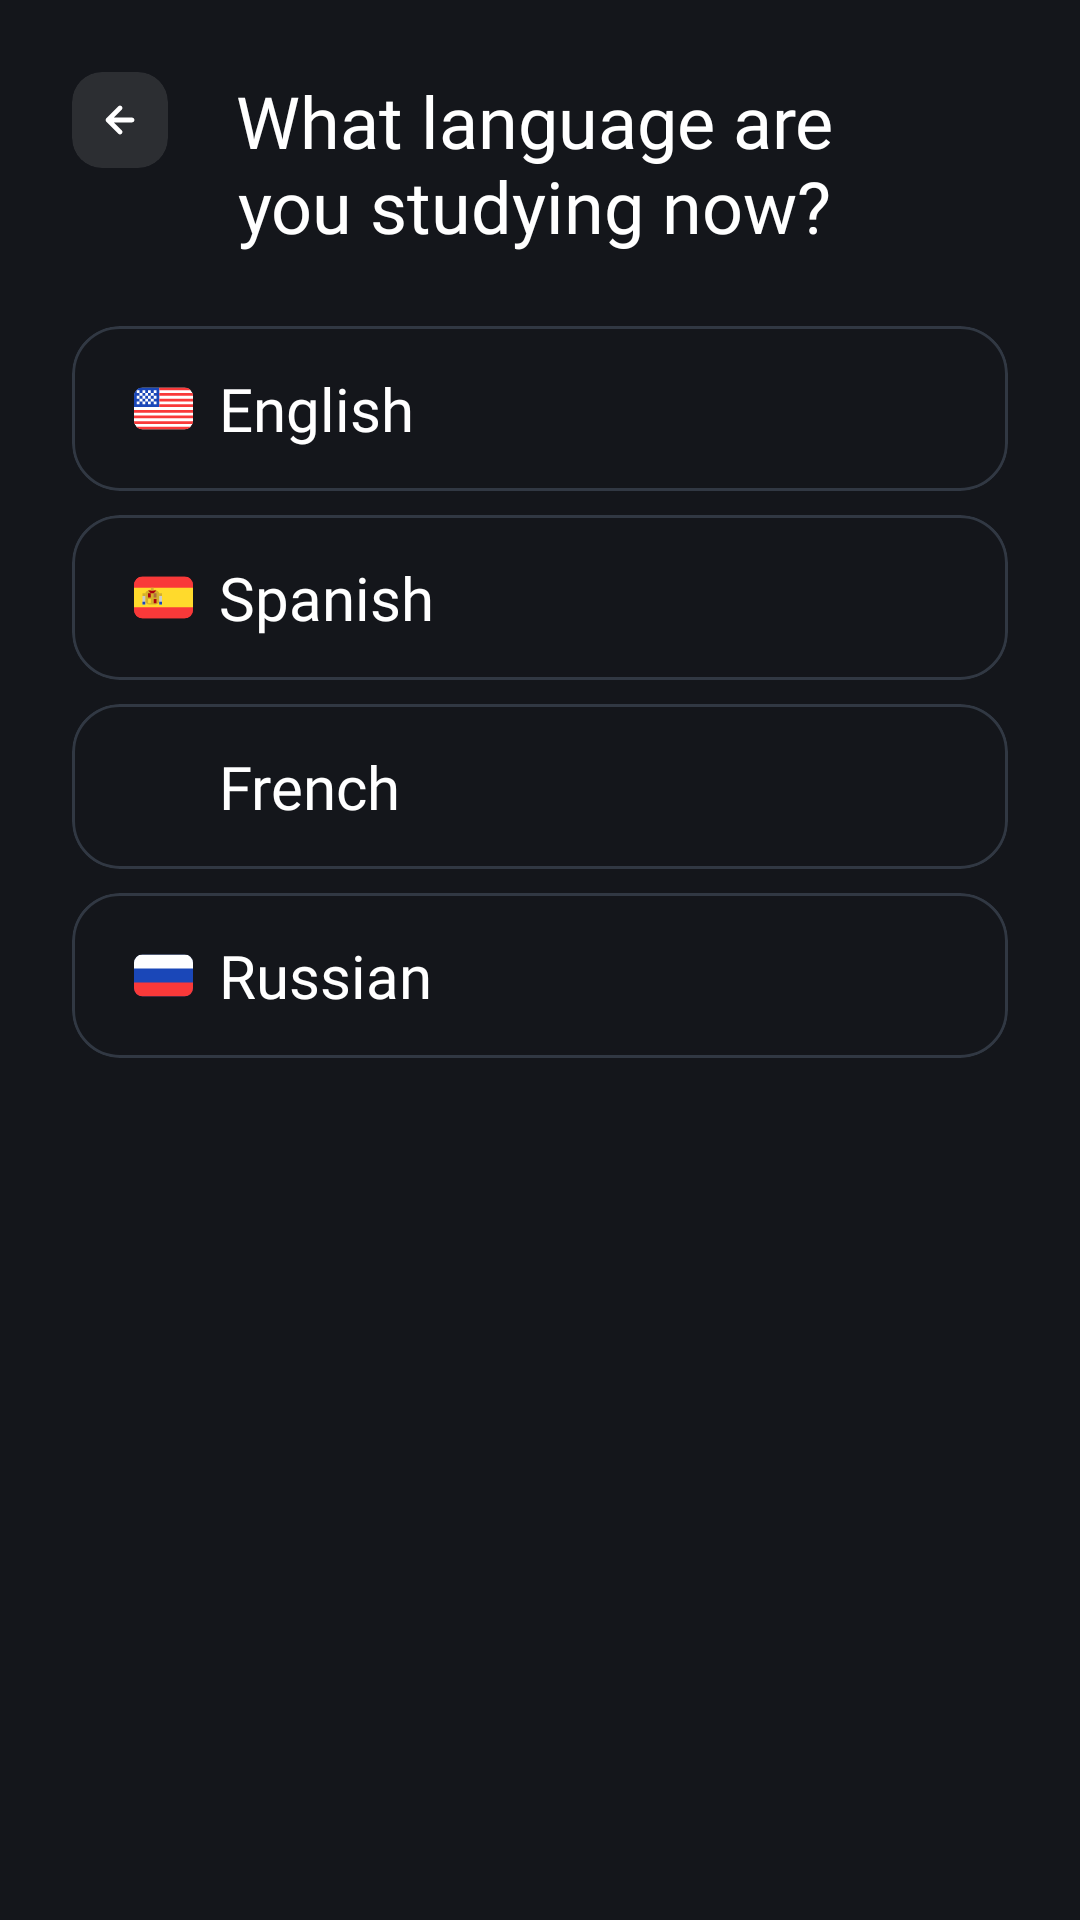

Icons on this 1080×1920 Android screen, each with its box as (x1, y1, x2, y2):
arrow left: (105, 105, 135, 135)
flag: (134, 387, 193, 430)
spain flag: (134, 576, 193, 619)
